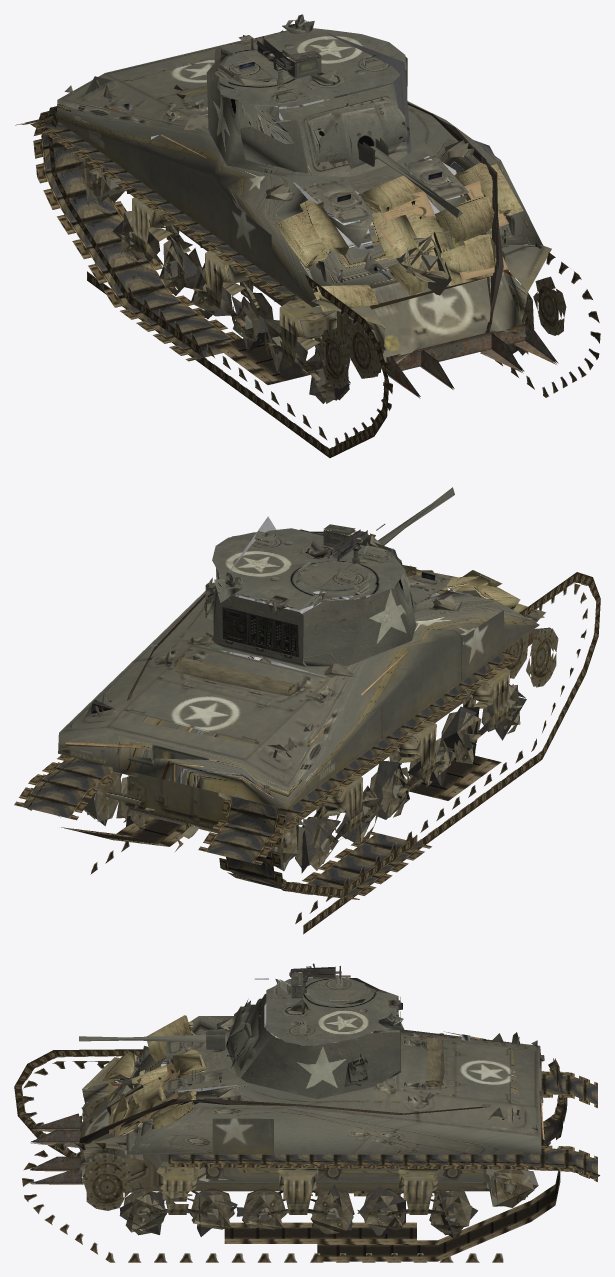
Rendered from m4a1_75_enkel.glb.
3 renders of one model, top to bottom at view 1: azimuth 30°, elevation 25°; view 2: azimuth 150°, elevation 25°; view 3: azimuth 270°, elevation 25°, orthographic. The views are drawn at different scales.
Visible parts, largest first — view 1: hull.001, track.002, turret.001, sandbags, hull-2, mount.001, rhino, wheel.001, hull-4, wheel2, object01_us gear_12_0, wheel11 (+16 smaller); view 2: hull.001, track.002, turret.001, hull-2, track.001, hull-4, interior.003, gear2, wheel.001, wheel13, wheel5, wheel9 (+11 smaller); view 3: hull.001, track.001, turret.001, hull-2, sandbags, track.002, rhino, wheel2, hull-4, wheel4, wheel16, wheel12 (+15 smaller).
Boxes of the visible parts, x1,y1,x2,y2 form: hull.001: [56, 40, 551, 372]; track.002: [15, 106, 392, 457]; turret.001: [206, 14, 407, 177]; sandbags: [274, 162, 523, 311]; hull-2: [119, 197, 515, 384]; mount.001: [308, 100, 408, 168]; rhino: [386, 322, 558, 398]; wheel.001: [317, 322, 380, 388]; hull-4: [64, 30, 515, 285]; wheel2: [508, 276, 566, 335]; object01_us gear_12_0: [298, 180, 508, 284]; wheel11: [159, 239, 201, 295]; hull.001: [58, 572, 545, 833]; track.002: [198, 572, 600, 934]; turret.001: [204, 528, 415, 667]; hull-2: [105, 668, 522, 851]; track.001: [14, 531, 375, 874]; hull-4: [65, 572, 489, 792]; interior.003: [222, 516, 384, 676]; gear2: [173, 654, 299, 696]; wheel.001: [503, 628, 558, 687]; wheel13: [295, 816, 340, 873]; wheel5: [441, 706, 481, 764]; wheel9: [369, 760, 411, 819]; hull.001: [80, 1016, 541, 1192]; track.001: [22, 1142, 599, 1262]; turret.001: [230, 978, 405, 1098]; hull-2: [138, 1161, 487, 1215]; sandbags: [102, 1015, 206, 1135]; track.002: [14, 1049, 597, 1196]; rhino: [30, 1113, 83, 1184]; wheel2: [82, 1152, 131, 1210]; hull-4: [133, 1018, 544, 1139]; wheel4: [119, 1188, 166, 1235]; wheel16: [485, 1169, 538, 1207]; wheel12: [357, 1185, 405, 1235].
Bounding box in the file's own units: 2.84 × 3.25 × 7.1.
Materials: 16 (15 with a texture image).
